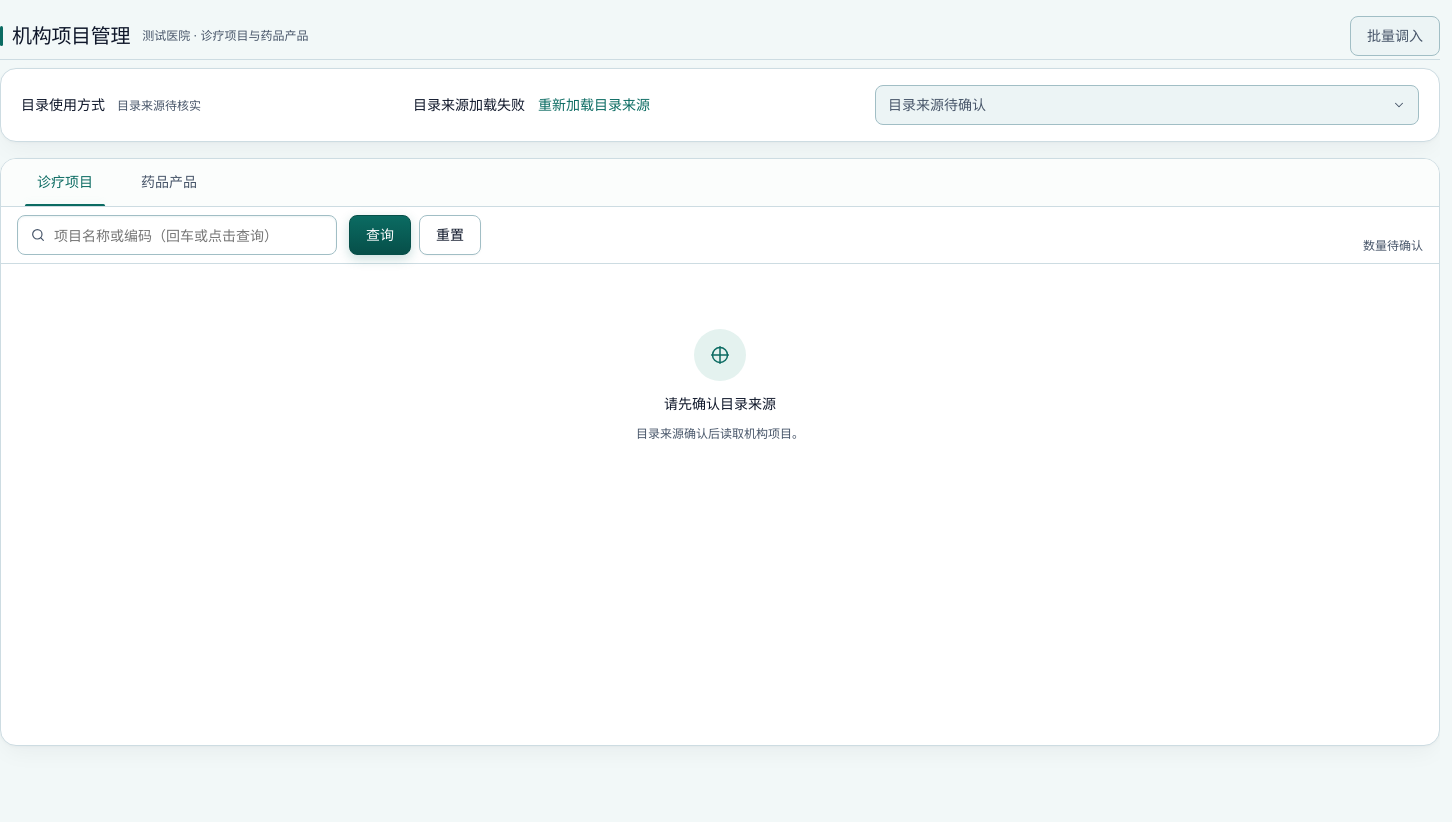
organization catalog confirmed facts › source network is an error with a real retry
Expected: the text "目录来源加载失败" is shown, [413,96,525,113]
Expected: the text "本机构独立目录" is not shown
Click the button "重新加载目录来源".
click(594, 105)  # box [525,89,663,121]
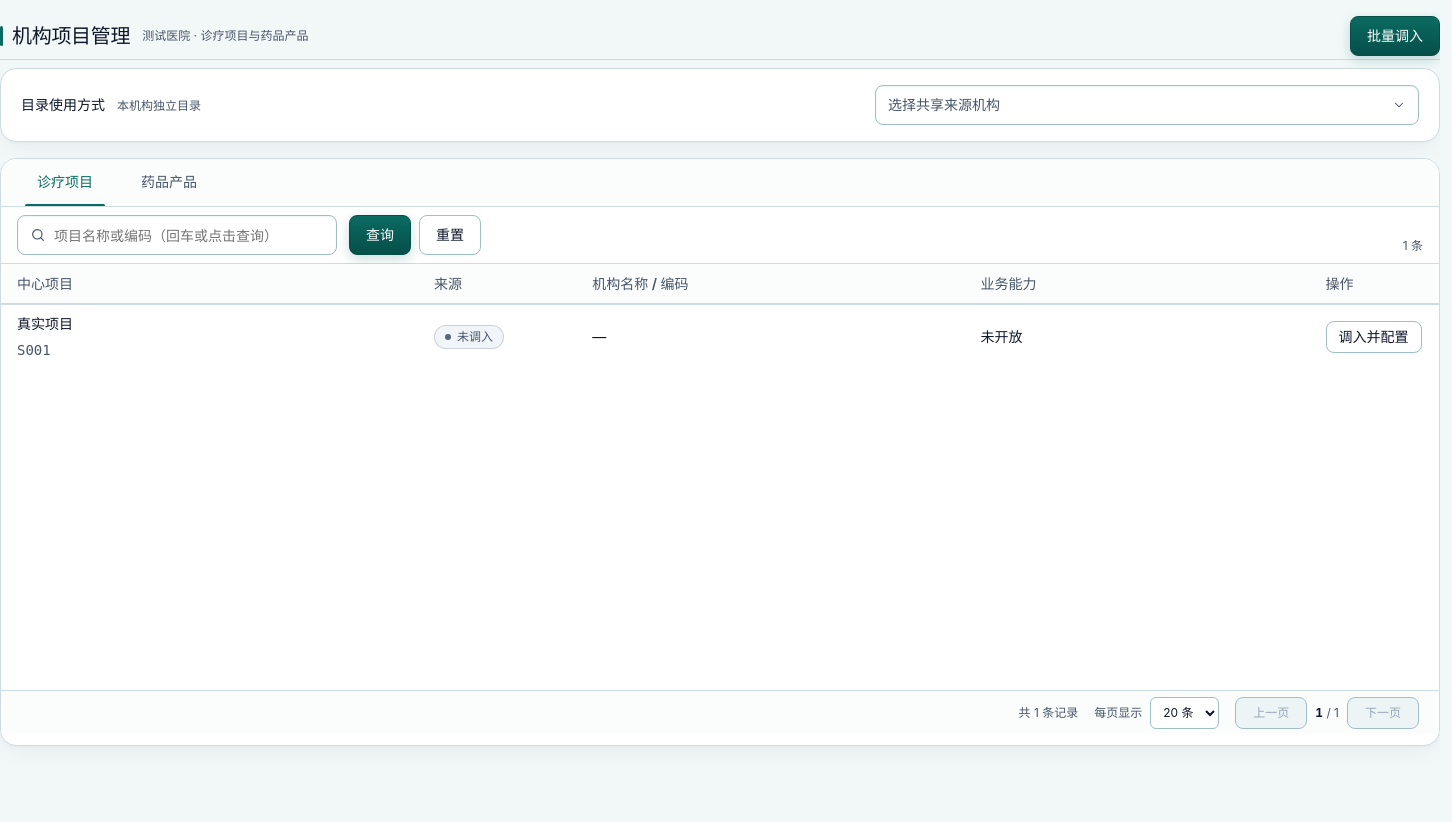
Expected: the text "真实项目" is shown, [17,314,73,332]
